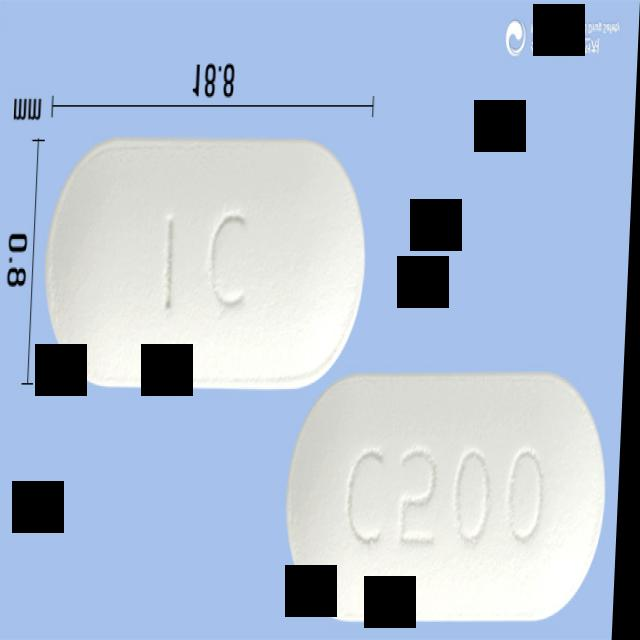Ciroctan: (280, 364, 621, 630), (38, 131, 377, 395)
